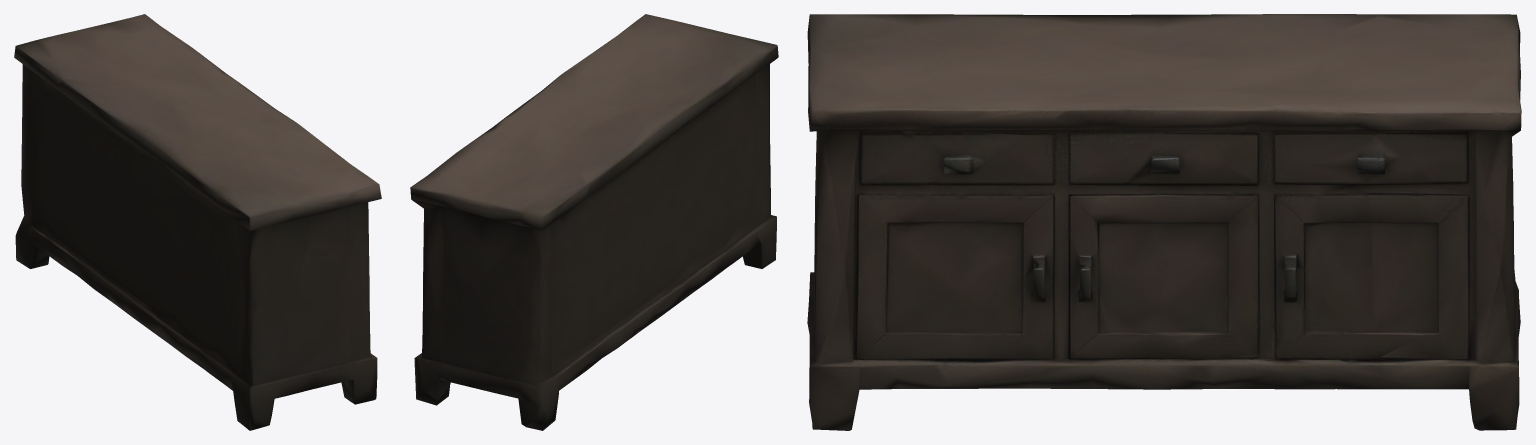
The model's file is sideboard.glb.
3 renders of one model, left to right at view 1: azimuth 30°, elevation 25°; view 2: azimuth 150°, elevation 25°; view 3: azimuth 270°, elevation 25°, orthographic. The views are drawn at different scales.
Visible parts, largest first — view 1: tripo_node_f213e29a-089f-4910-ab0c-fc484d12430a; view 2: tripo_node_f213e29a-089f-4910-ab0c-fc484d12430a; view 3: tripo_node_f213e29a-089f-4910-ab0c-fc484d12430a.
Part boxes in pixels (x1,y1,x2,y2): tripo_node_f213e29a-089f-4910-ab0c-fc484d12430a: [14, 14, 381, 430]; tripo_node_f213e29a-089f-4910-ab0c-fc484d12430a: [410, 14, 778, 430]; tripo_node_f213e29a-089f-4910-ab0c-fc484d12430a: [807, 14, 1521, 430].
Bounding box in the file's own units: 0.3239 × 0.5017 × 1.
Materials: 1 (1 with a texture image).
